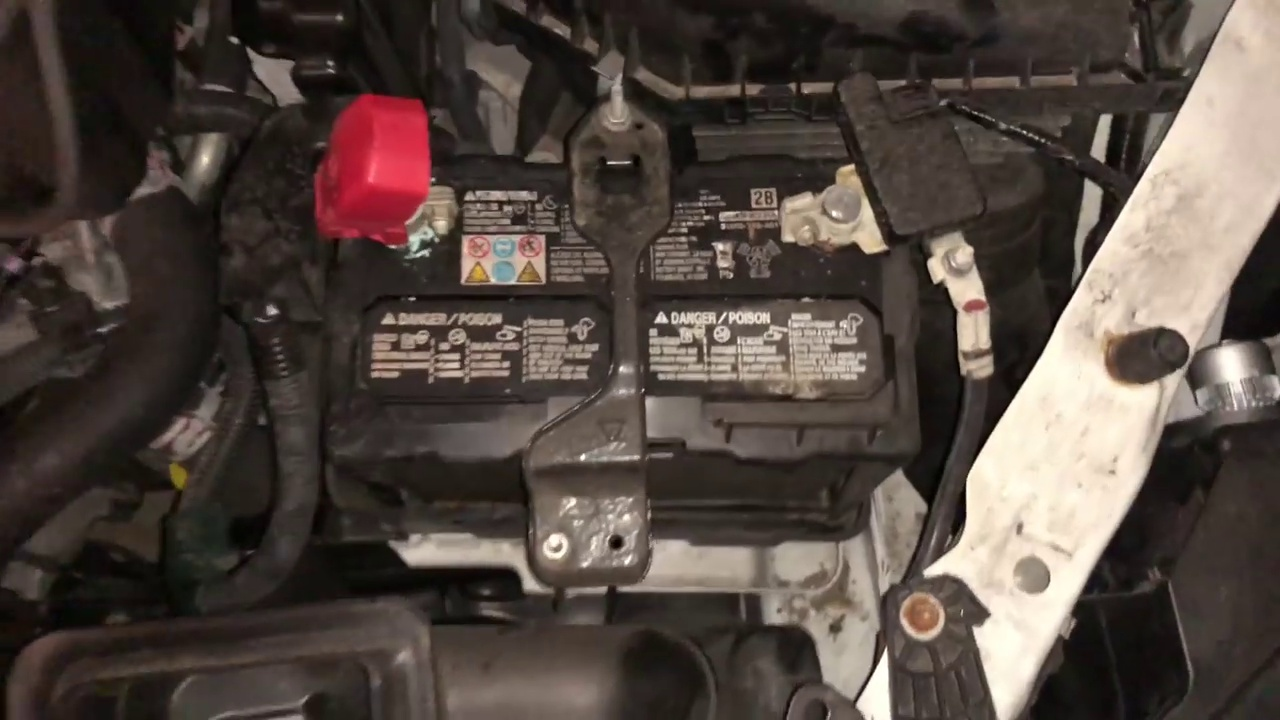battery: (312, 117, 933, 501)
neg_connected: (755, 133, 902, 261)
pos_connected: (317, 108, 485, 256)
